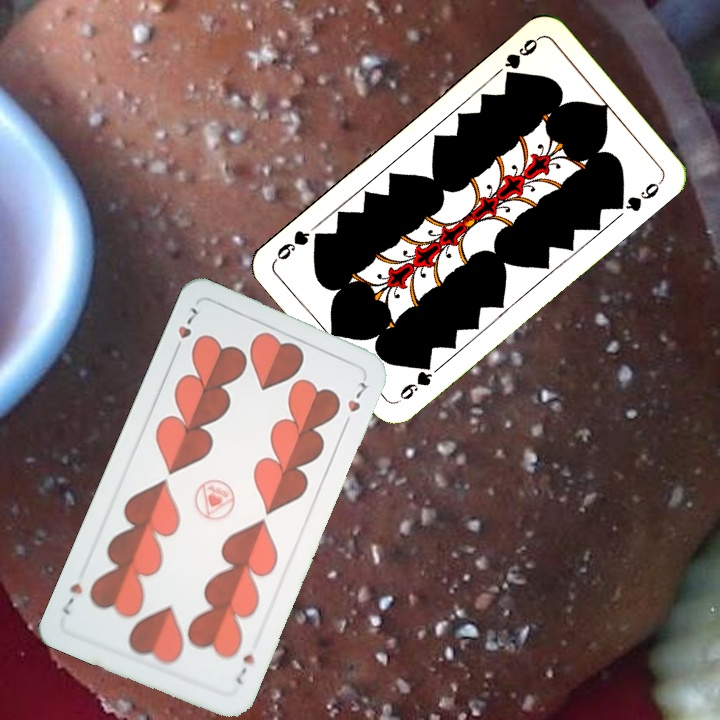G9: (392, 356, 436, 406), (500, 33, 543, 84)
H7: (169, 302, 202, 357), (232, 650, 257, 687)
